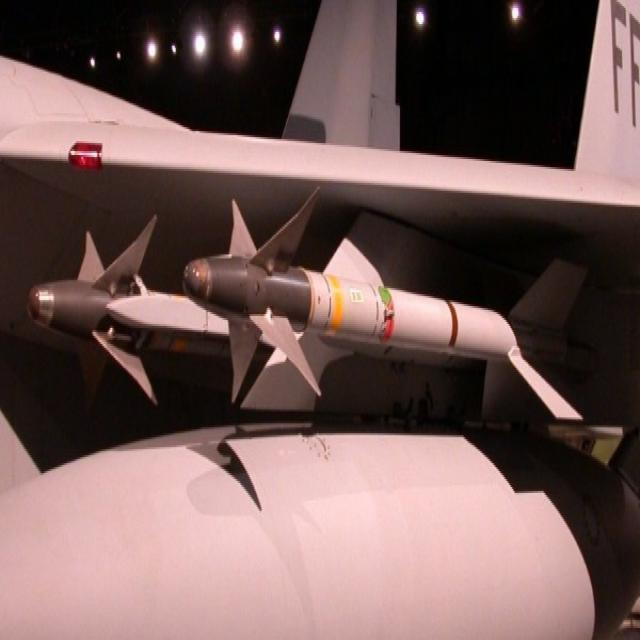missile: (178, 245, 520, 368), (25, 274, 271, 380)
